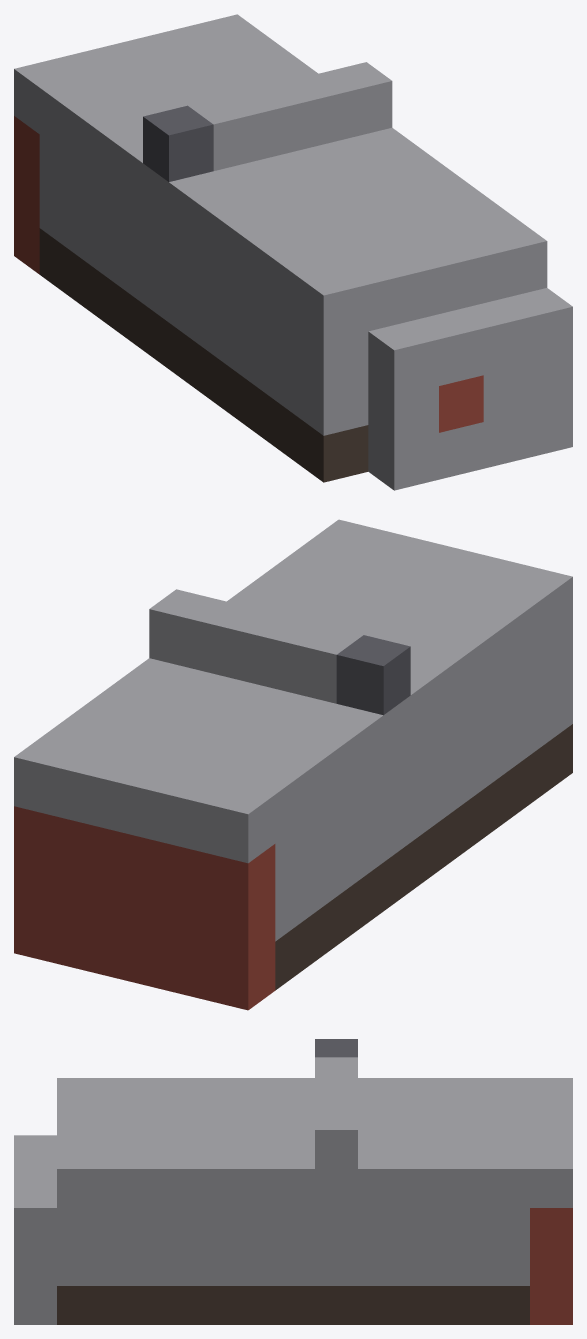
The model's file is chain_masterwork_boot_foot_L_lod1.glb.
3 views of the same model, one above another, from view 1: azimuth 30°, elevation 25°; view 2: azimuth 150°, elevation 25°; view 3: azimuth 270°, elevation 25° (orthographic). The views are drawn at different scales.
Parts seen in each view (by area): view 1: chain_masterwork_boot_foot_L_lod1; view 2: chain_masterwork_boot_foot_L_lod1; view 3: chain_masterwork_boot_foot_L_lod1.
Boxes of the visible parts, left/top/right/bottom form: chain_masterwork_boot_foot_L_lod1: left=14, top=14, right=572, bottom=490; chain_masterwork_boot_foot_L_lod1: left=14, top=519, right=572, bottom=1010; chain_masterwork_boot_foot_L_lod1: left=14, top=1039, right=572, bottom=1324.
Size of the model in its own units: 0.12 by 0.12 by 0.312.
